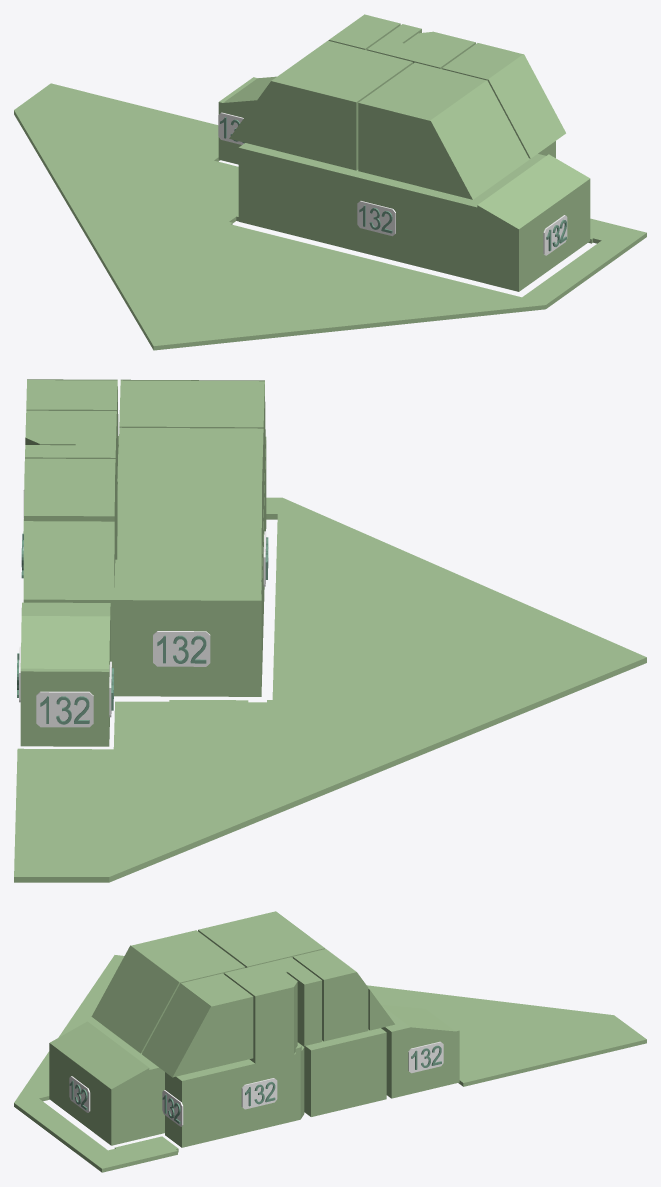
3 renders of one model, top to bottom at view 1: azimuth 30°, elevation 25°; view 2: azimuth 150°, elevation 25°; view 3: azimuth 270°, elevation 25°, orthographic. The views are drawn at different scales.
Parts seen in each view (by area): view 1: g_13, g_16, g_1, g_8, g_7, g_0, g_9, g_15, g_10, g_5, g_6, g_14 (+3 smaller); view 2: g_13, g_16, g_7, g_0, g_5, g_8, g_12, g_6, g_10, g_9, g_40, g_20 (+1 smaller); view 3: g_13, g_1, g_8, g_9, g_0, g_4, g_5, g_7, g_6, g_11, g_2, g_10 (+8 smaller).
Boxes of the visible parts, x1,y1,x2,y2 form: g_13: [14, 83, 238, 302]; g_16: [125, 224, 521, 350]; g_1: [322, 154, 590, 291]; g_8: [358, 62, 529, 199]; g_7: [229, 40, 412, 170]; g_0: [238, 143, 328, 242]; g_9: [442, 43, 565, 158]; g_15: [505, 240, 626, 313]; g_10: [367, 24, 461, 68]; g_5: [218, 76, 276, 164]; g_6: [328, 14, 400, 50]; g_14: [588, 218, 646, 250]; g_13: [14, 700, 539, 882]; g_16: [272, 514, 646, 706]; g_7: [117, 427, 263, 598]; g_0: [23, 547, 262, 696]; g_5: [20, 602, 110, 746]; g_8: [119, 379, 265, 508]; g_12: [23, 521, 114, 597]; g_6: [24, 458, 115, 575]; g_10: [25, 411, 116, 538]; g_9: [26, 379, 118, 490]; g_40: [36, 691, 93, 727]; g_20: [153, 631, 210, 666]; g_13: [367, 985, 646, 1086]; g_1: [49, 1021, 164, 1145]; g_8: [91, 930, 245, 1053]; g_9: [142, 973, 253, 1077]; g_0: [297, 1028, 386, 1116]; g_4: [165, 1060, 252, 1147]; g_5: [381, 1004, 459, 1098]; g_7: [198, 911, 325, 967]; g_6: [293, 949, 368, 1041]; g_11: [243, 972, 297, 1058]; g_2: [247, 1042, 304, 1130]; g_10: [224, 957, 321, 1045].
Size of the model in its own units: 17.69 by 5.36 by 22.11.
